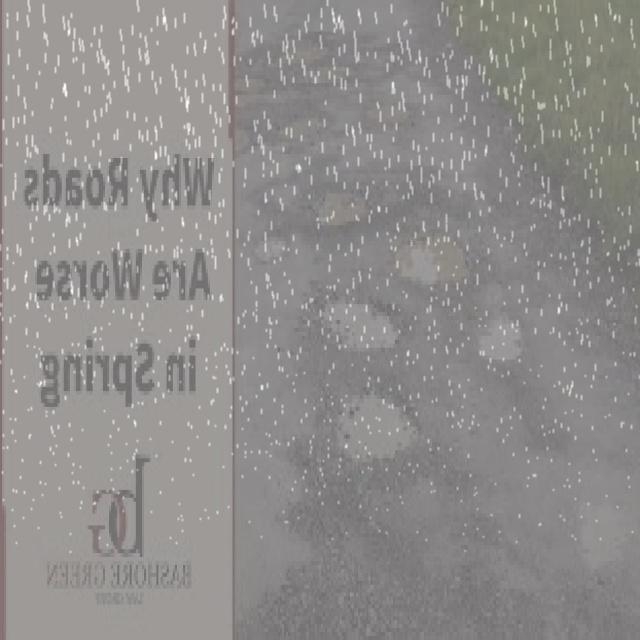Pothole: (308, 375, 442, 471), (569, 454, 640, 584), (305, 282, 411, 360), (390, 226, 482, 292), (474, 307, 530, 380), (306, 179, 380, 225), (270, 26, 338, 71), (234, 66, 296, 111), (361, 98, 421, 136), (246, 232, 302, 268), (231, 115, 257, 164)
